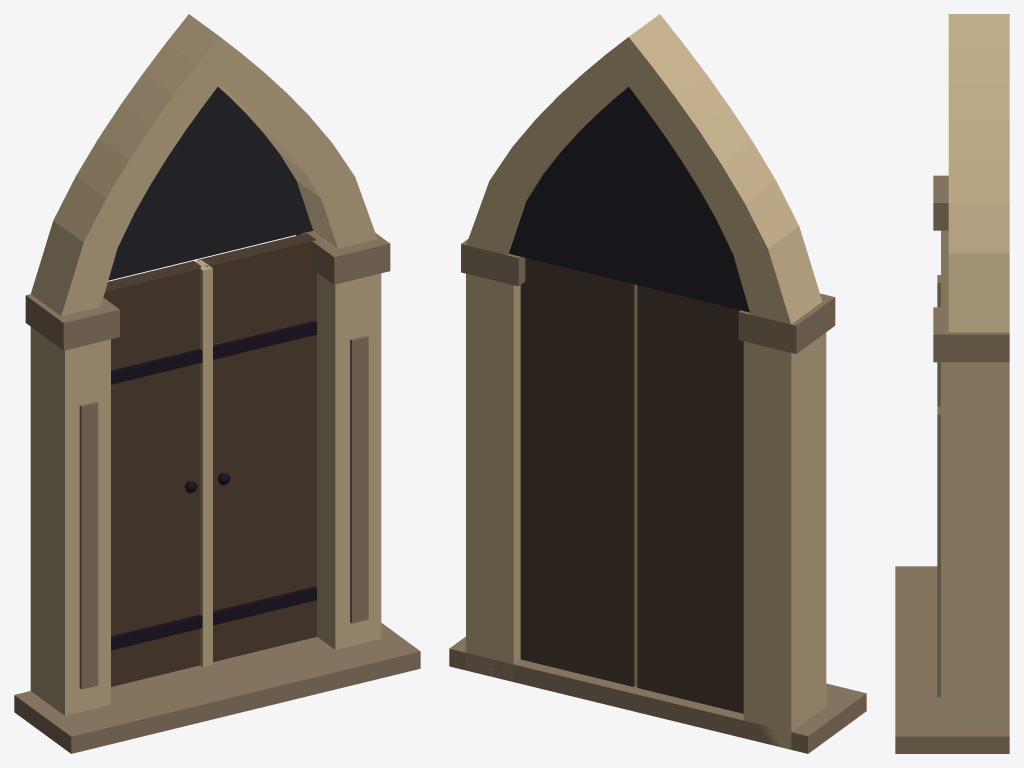
Rendered from church_doors.glb.
3 renders of one model, left to right at view 1: azimuth 30°, elevation 25°; view 2: azimuth 150°, elevation 25°; view 3: azimuth 270°, elevation 25°, orthographic. The views are drawn at different scales.
Visible parts, largest first — view 1: church_doors; view 2: church_doors; view 3: church_doors.
Boxes of the visible parts, x1,y1,x2,y2 form: church_doors: [14, 14, 420, 753]; church_doors: [449, 14, 866, 753]; church_doors: [895, 14, 1009, 753].
Size of the model in its own units: 1.06 by 1.9 by 0.3.
